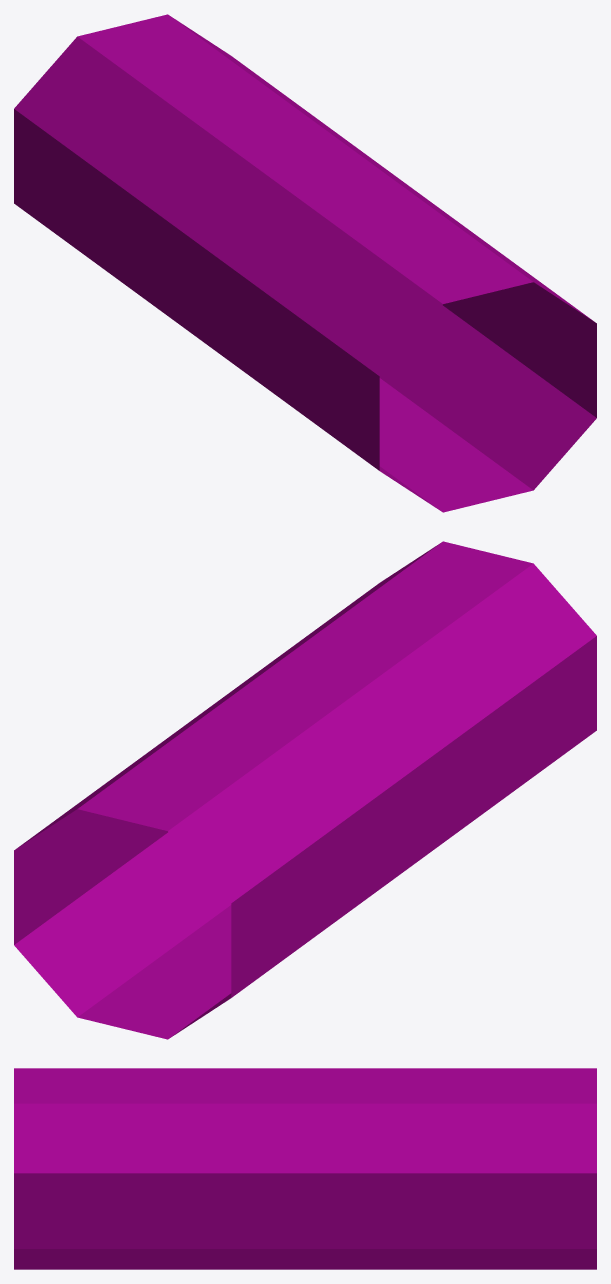
The model's file is I Corridor.fbx.
3 views of the same model, one above another, from view 1: azimuth 30°, elevation 25°; view 2: azimuth 150°, elevation 25°; view 3: azimuth 270°, elevation 25° (orthographic). The views are drawn at different scales.
Parts seen in each view (by area): view 1: I_Corridor; view 2: I_Corridor; view 3: I_Corridor.
Part boxes in pixels (x1=…): I_Corridor: x1=14, y1=14, x2=596, y2=512; I_Corridor: x1=14, y1=541, x2=596, y2=1039; I_Corridor: x1=14, y1=1068, x2=596, y2=1269.
Bounding box in the file's own units: 24 × 22 × 70.
